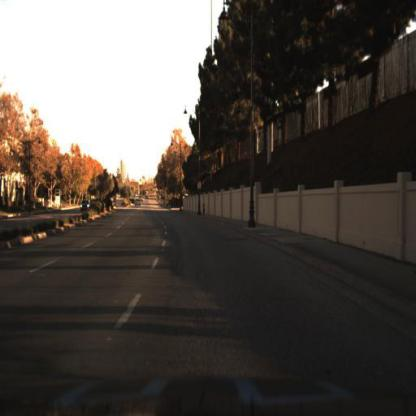car: (79, 199, 93, 217), (133, 193, 145, 212)
